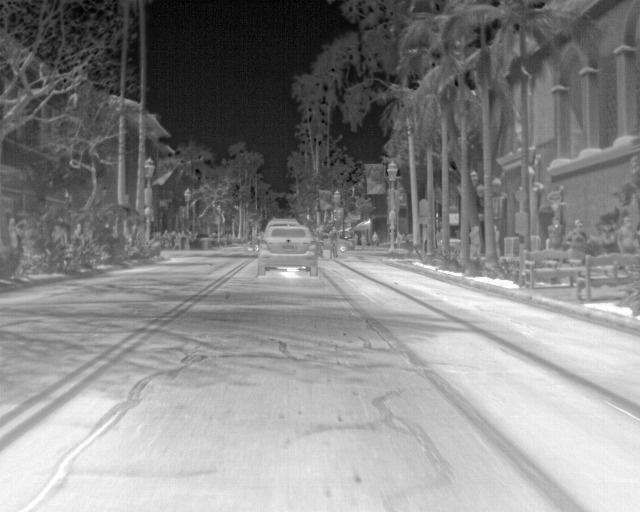bicycle: (256, 224, 319, 276), (263, 216, 300, 231), (335, 236, 357, 254)
empty: (614, 215, 639, 253), (564, 218, 590, 252), (546, 215, 562, 249), (6, 216, 21, 249), (468, 225, 481, 260), (50, 224, 69, 244), (325, 226, 339, 246), (171, 230, 183, 250), (369, 230, 381, 246), (492, 223, 500, 244)
